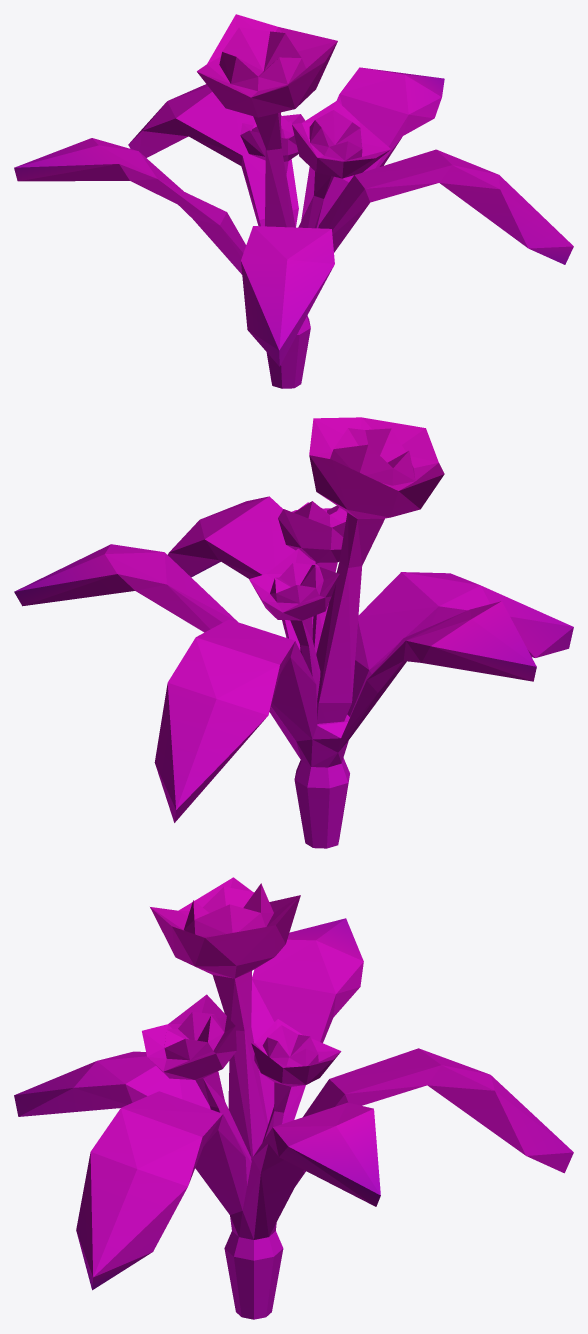
The model's file is SM_Plant_07.gltf.
The picture shows the model from 3 angles, top to bottom: view 1: azimuth 30°, elevation 25°; view 2: azimuth 150°, elevation 25°; view 3: azimuth 270°, elevation 25°; orthographic projection. The views are drawn at different scales.
Parts seen in each view (by area): view 1: SM_Plant_07; view 2: SM_Plant_07; view 3: SM_Plant_07.
Part boxes in pixels (x1,y1,x2,y2): SM_Plant_07: (14,14,573,388); SM_Plant_07: (14,417,573,848); SM_Plant_07: (14,877,573,1319).
Size of the model in its own units: 0.99 by 0.7703 by 0.9649.
